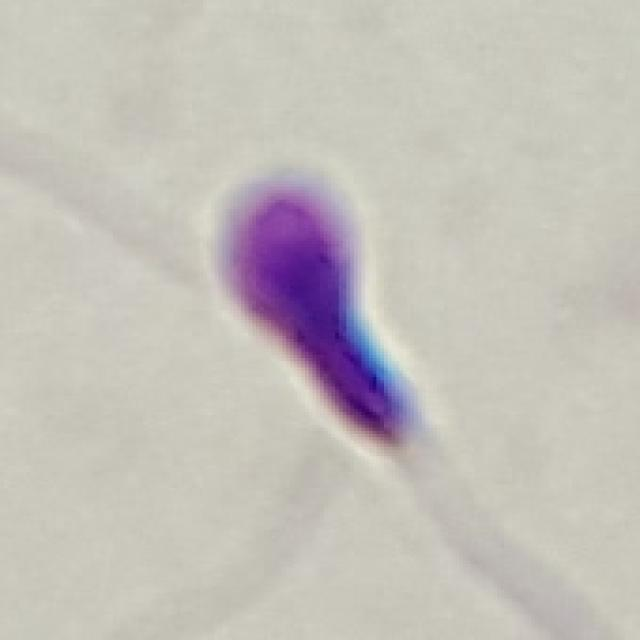abnormal sperm: (213, 171, 474, 545)
